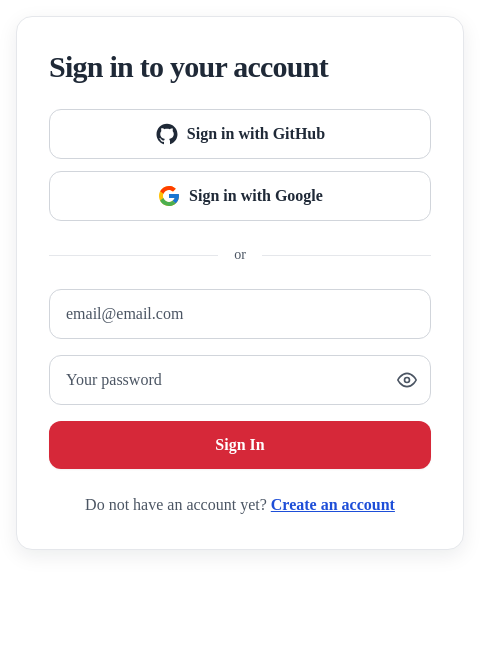
Test case: Auth page › creates the account without sending the confirmation and returns to sign in
The width and height of the screenshot is (481, 672).
Step 1. Click the button "Create an account" → [333, 505], box [271, 493, 395, 517]
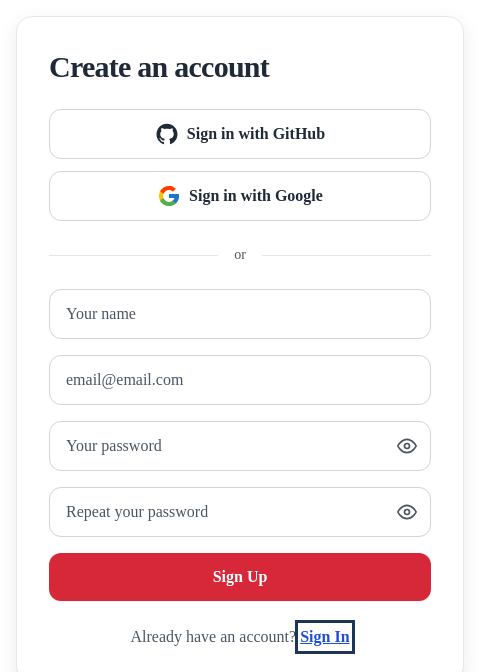
Step 2. Type "Ana" into the field labelled "name" → [240, 314], box [49, 289, 431, 339]
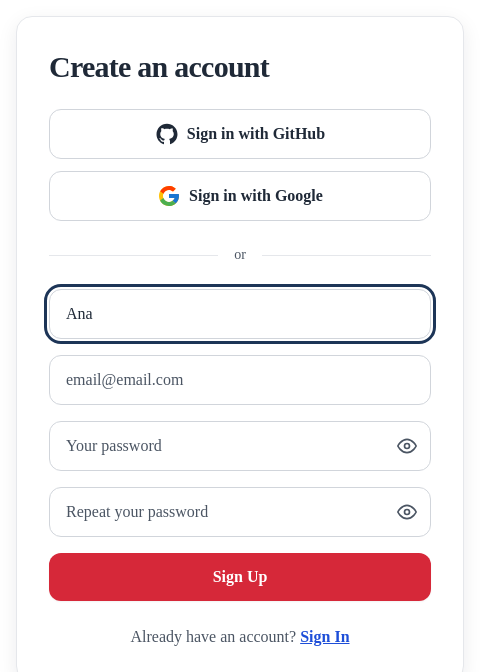
Step 3. Type "ana@example.com" into the field labelled "email" → [240, 380], box [49, 355, 431, 405]
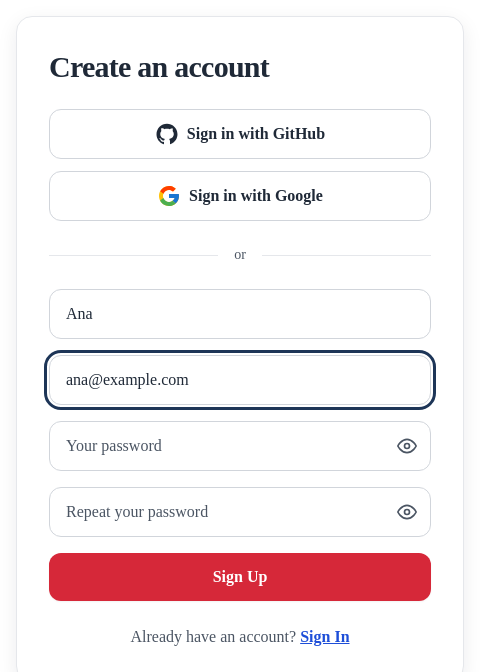
Step 4. Type "secret123" into the password field named "Password (at least 8 characters)" → [240, 446], box [49, 421, 431, 471]
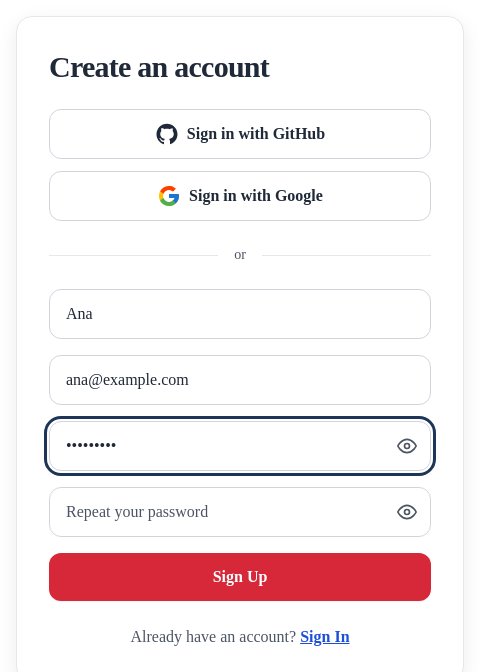
Step 5. Type "secret123" into the password field named "Confirm password" → [240, 512], box [49, 487, 431, 537]
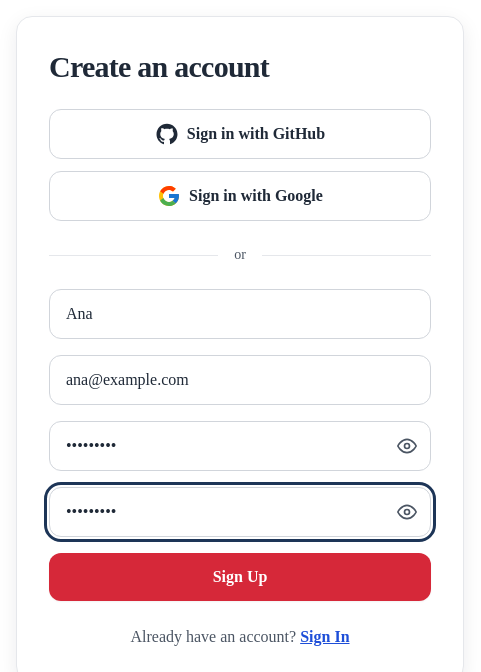
Step 6. Click the button "Sign Up" → [240, 577], box [49, 553, 431, 601]
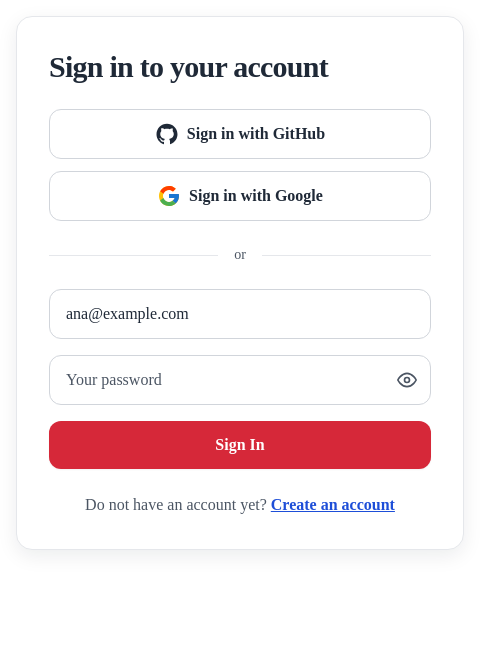
Now the heading "Sign in to your account" is shown, box [49, 50, 328, 83]
